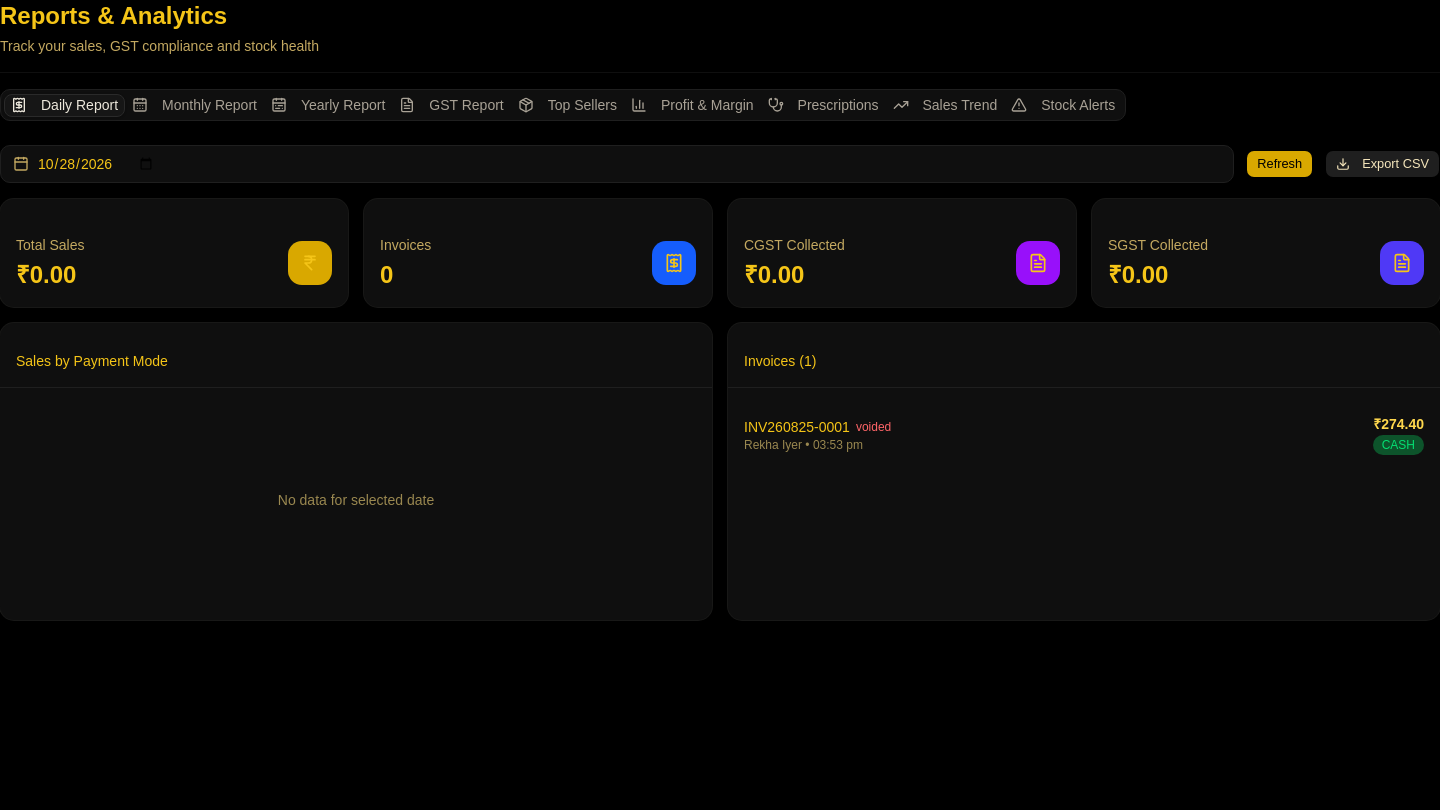
Scenario: Reports — nothing to return › says why on an invoice already voided
What coordinates should you click on to do the following:
click the button with aria-label "Invoice INV260825-0001"
I would click on:
 (797, 426)
Its box is x1=728 y1=404 x2=1439 y2=465.
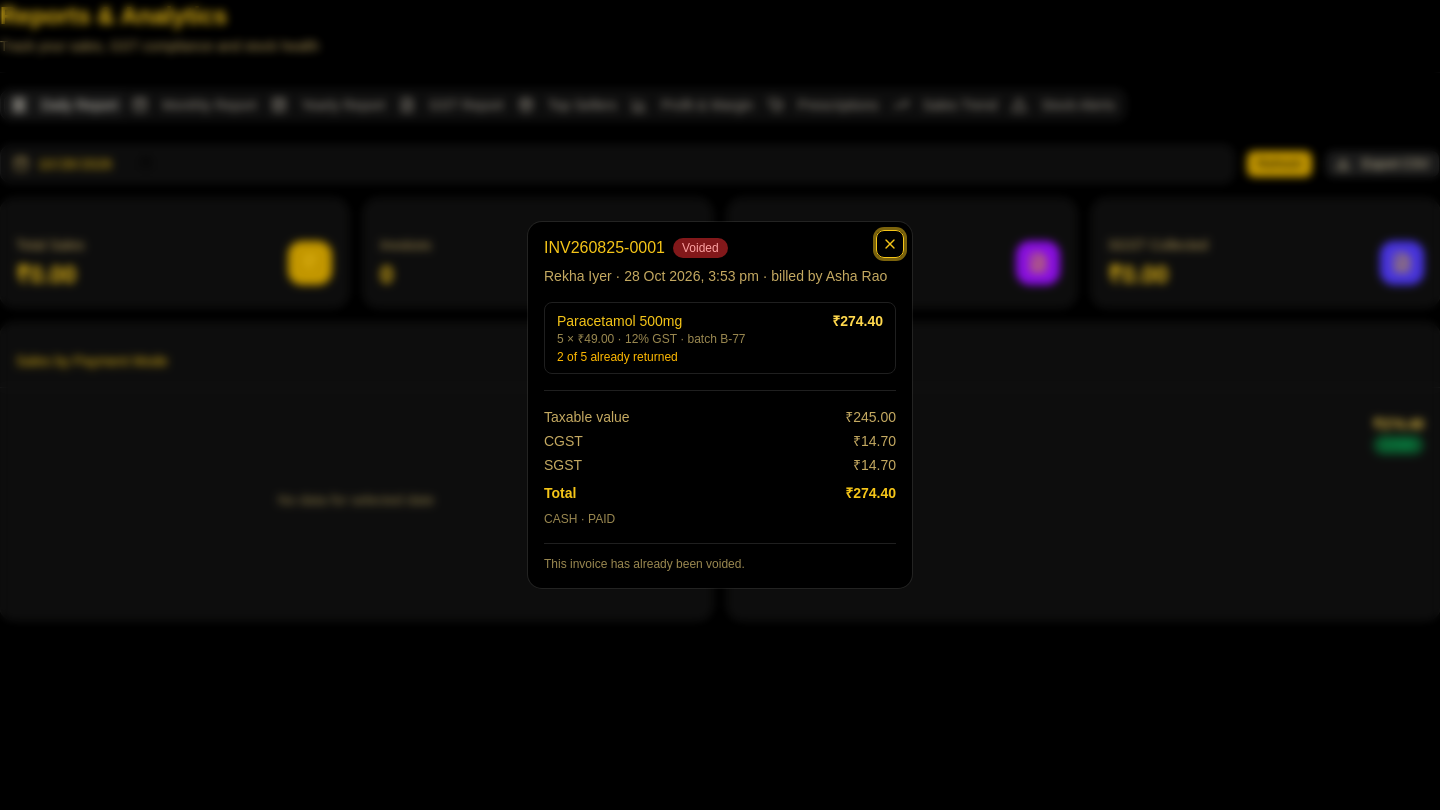
Expected: the text "This invoice has already been voided." is shown, x1=544 y1=543 x2=896 y2=572
